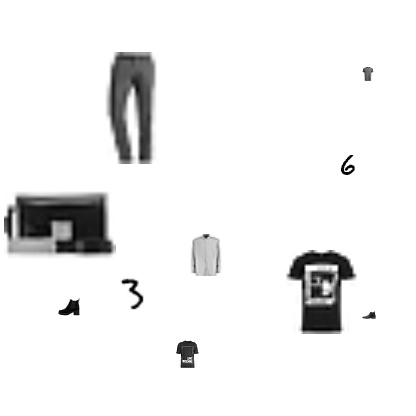3: (113, 270, 155, 312)
6: (333, 152, 361, 180)
Ankle_boot: (58, 296, 80, 318), (362, 308, 376, 322)
Bag: (4, 169, 116, 281)
Shirt: (185, 234, 227, 276)
T-shirt/top: (278, 250, 362, 334), (173, 340, 201, 368), (361, 67, 375, 81)
Trouser: (75, 52, 187, 164)
